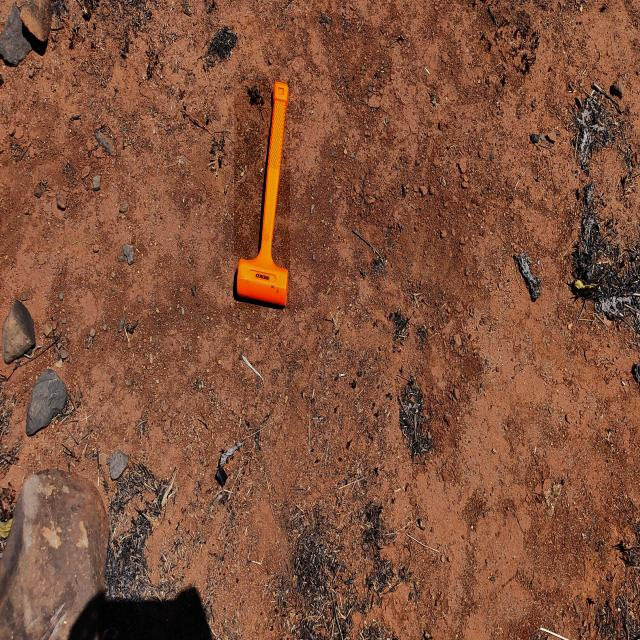Orange_hammer: (234, 79, 290, 309)
